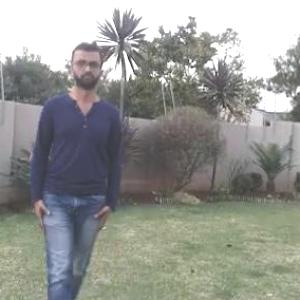follow: (31, 35, 116, 299)
